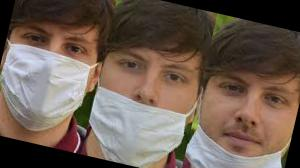mask_weared_incorrect: (87, 43, 203, 168), (192, 67, 298, 168)
with_mask: (1, 16, 101, 128)
